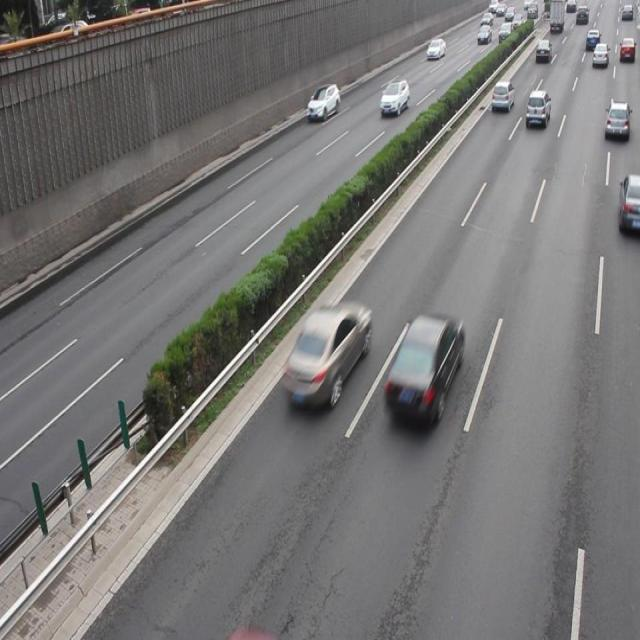car: (280, 300, 370, 410), (382, 312, 462, 428), (616, 174, 640, 235), (306, 82, 340, 120), (378, 78, 409, 116), (602, 101, 628, 140), (524, 91, 550, 127)
